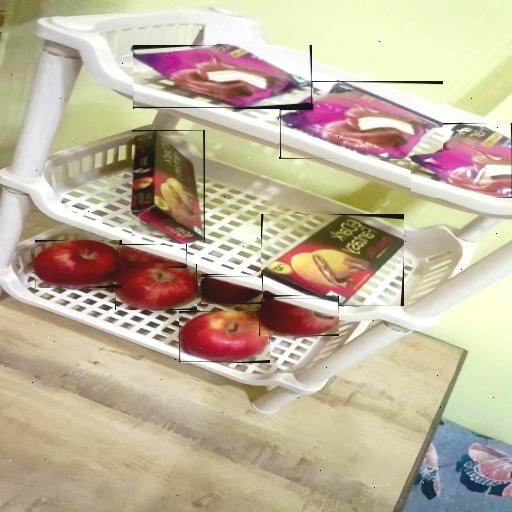Apple: (179, 311, 270, 362), (35, 241, 121, 287), (115, 264, 197, 310), (259, 299, 338, 336), (201, 277, 262, 304), (119, 246, 187, 267)
Choco Fills: (261, 215, 404, 306), (132, 130, 204, 243)
Choco Pie: (280, 82, 443, 159), (133, 45, 311, 108), (411, 124, 512, 197)
